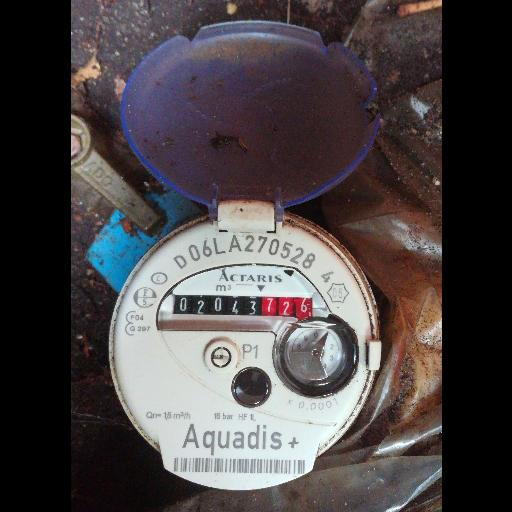0: (176, 295, 189, 315), (211, 296, 223, 315)
2: (278, 297, 293, 317), (194, 295, 207, 316)
3: (245, 297, 259, 318)
4: (227, 296, 241, 317)
6: (295, 298, 311, 323)
7: (261, 297, 276, 316)
border_water_meter_number: (170, 290, 314, 324)
